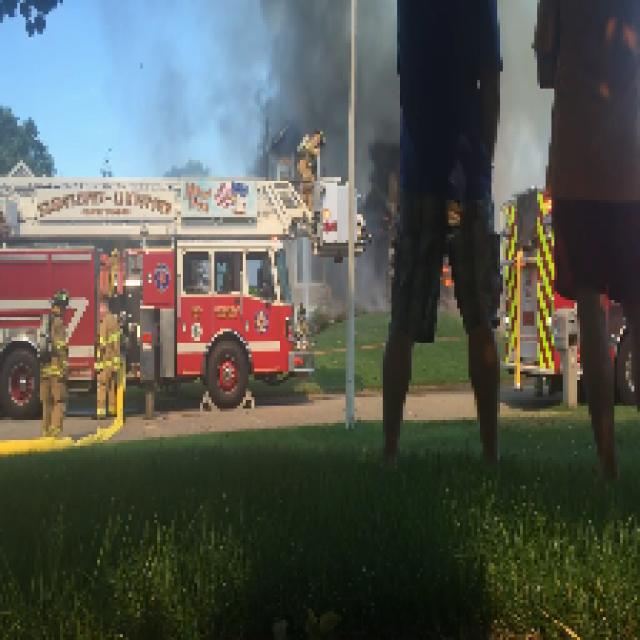smoke: (268, 7, 388, 307)
